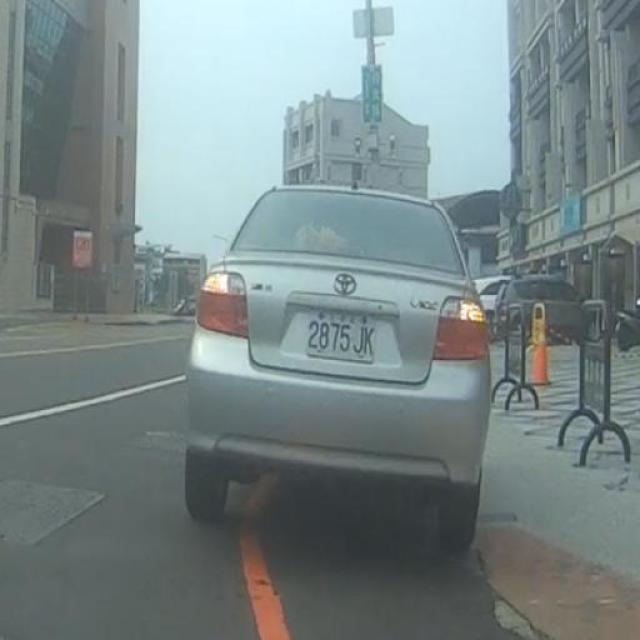illegalparking: (144, 110, 530, 580)
